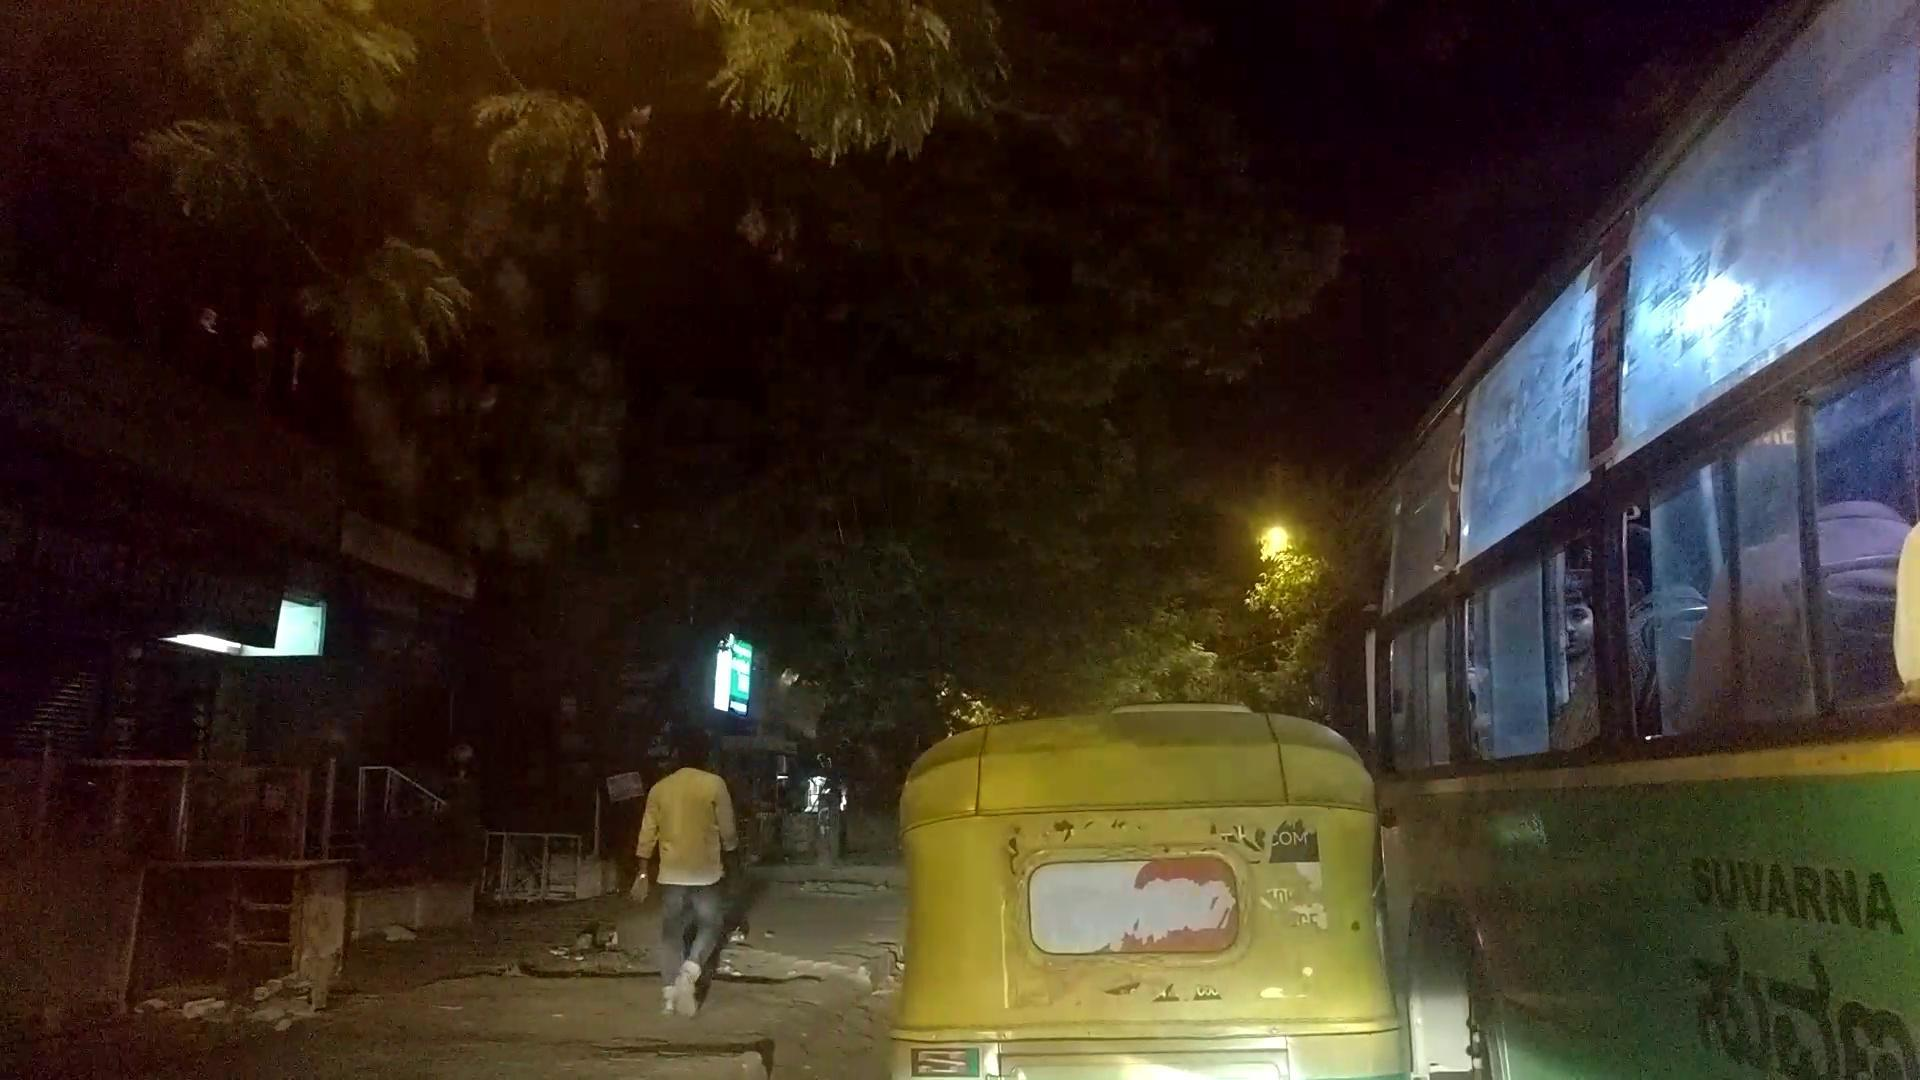on: (0, 82, 1920, 1080)
